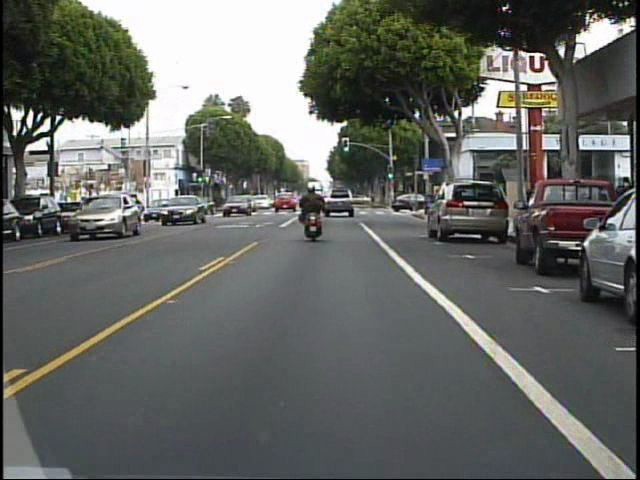person: (296, 182, 332, 241)
